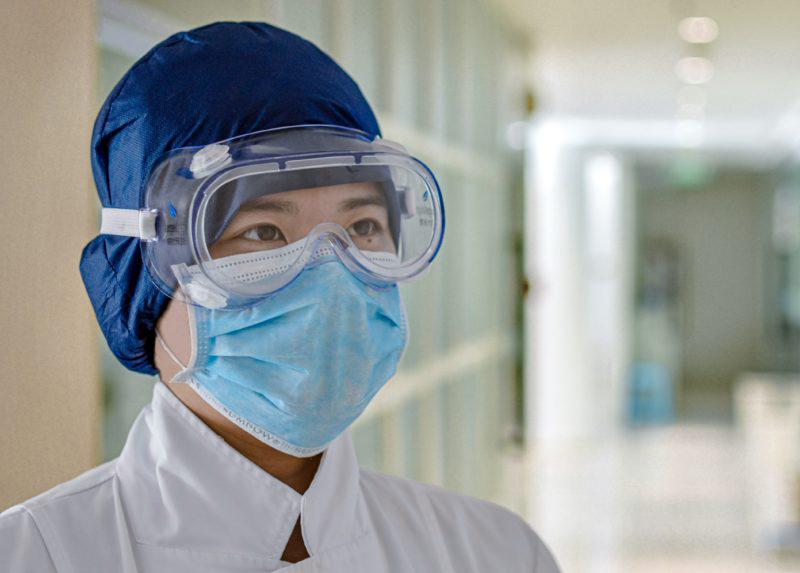Goggles: (139, 125, 447, 309)
with_mask: (175, 245, 408, 458)
